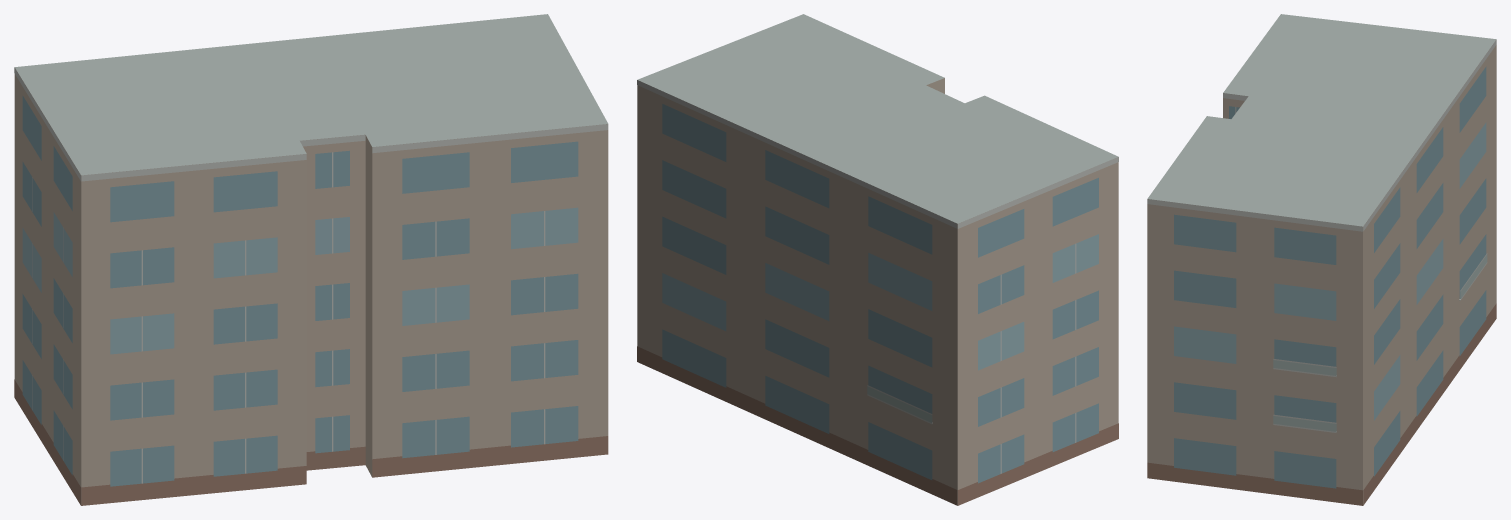
The model's file is survey-upis-32877718.glb.
3 renders of one model, left to right at view 1: azimuth 30°, elevation 25°; view 2: azimuth 150°, elevation 25°; view 3: azimuth 270°, elevation 25°, orthographic. The views are drawn at different scales.
Parts seen in each view (by area): view 1: survey-upis-32877718.tmp; view 2: survey-upis-32877718.tmp; view 3: survey-upis-32877718.tmp.
Boxes of the visible parts, box(x1,y1,x2,y2) form: survey-upis-32877718.tmp: box(14, 14, 608, 505); survey-upis-32877718.tmp: box(637, 14, 1118, 505); survey-upis-32877718.tmp: box(1147, 14, 1496, 505).
Bounding box in the file's own units: 21.56 × 13.2 × 14.97.
